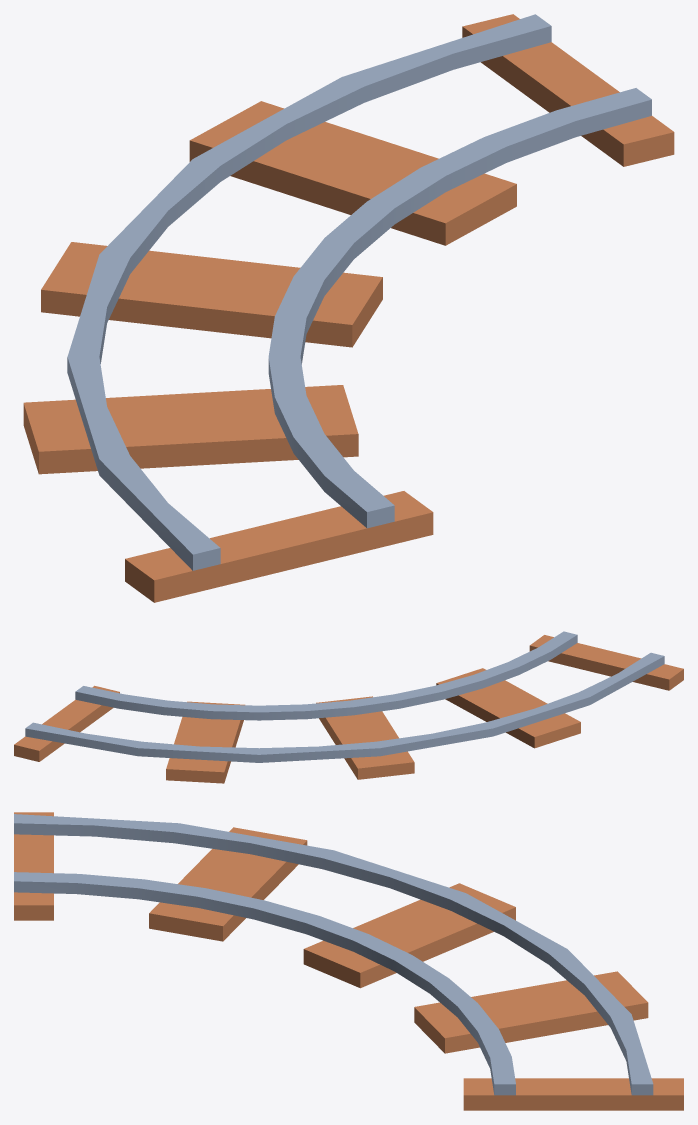
File: trackCornerLarge.dae
3 views of the same model, one above another, from view 1: azimuth 30°, elevation 25°; view 2: azimuth 150°, elevation 25°; view 3: azimuth 270°, elevation 25° (orthographic). The views are drawn at different scales.
Parts seen in each view (by area): view 1: trackCornerLarge; view 2: trackCornerLarge; view 3: trackCornerLarge.
Boxes of the visible parts, <box> form: trackCornerLarge: <box>23,14,674,602</box>; trackCornerLarge: <box>14,631,683,783</box>; trackCornerLarge: <box>14,812,683,1110</box>.
Size of the model in its own units: 0.5529 by 0.0241 by 0.5529.
